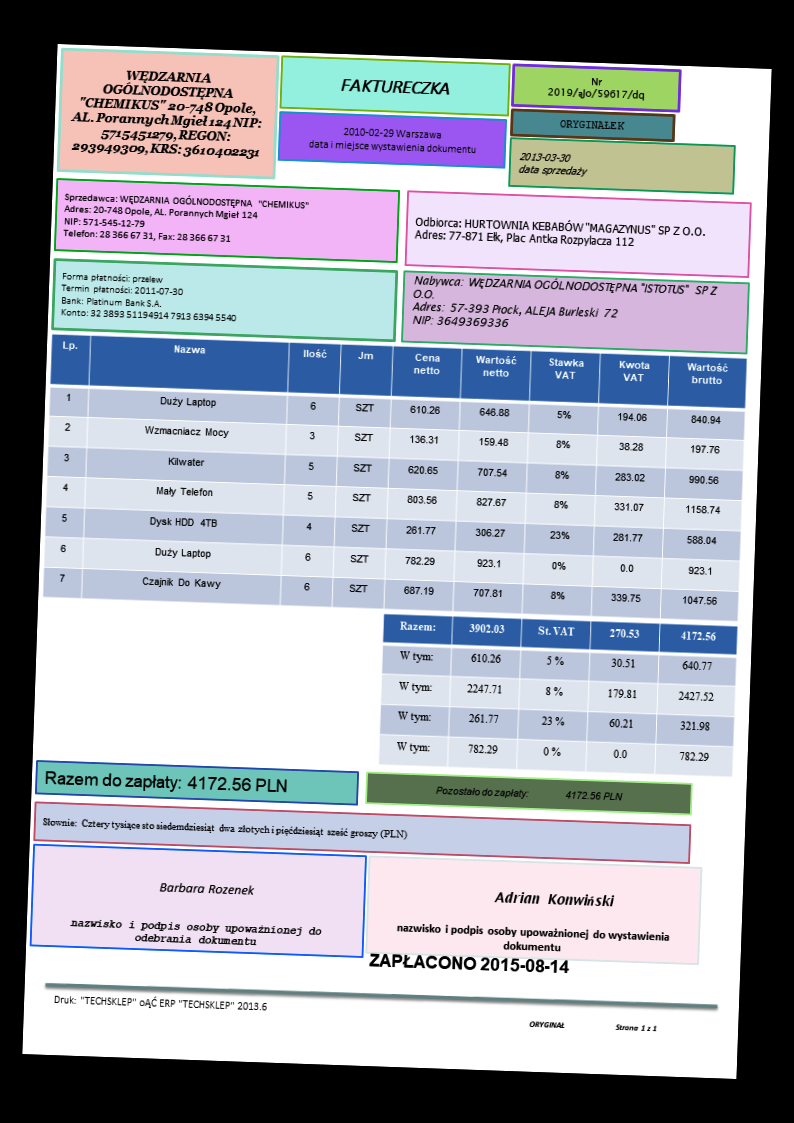Table: (40, 333, 749, 624), (376, 612, 740, 779)
TextBox: (409, 271, 720, 338), (67, 66, 267, 163), (60, 189, 312, 250), (412, 212, 708, 254), (40, 813, 409, 843), (393, 918, 675, 957), (59, 268, 238, 324), (69, 913, 325, 951), (43, 766, 290, 798), (305, 121, 479, 158), (366, 948, 570, 977), (50, 989, 272, 1014), (432, 782, 624, 806), (546, 73, 648, 103), (516, 146, 591, 181), (491, 889, 616, 910), (338, 74, 452, 97), (527, 1016, 660, 1035), (156, 879, 259, 898), (556, 115, 628, 132)
